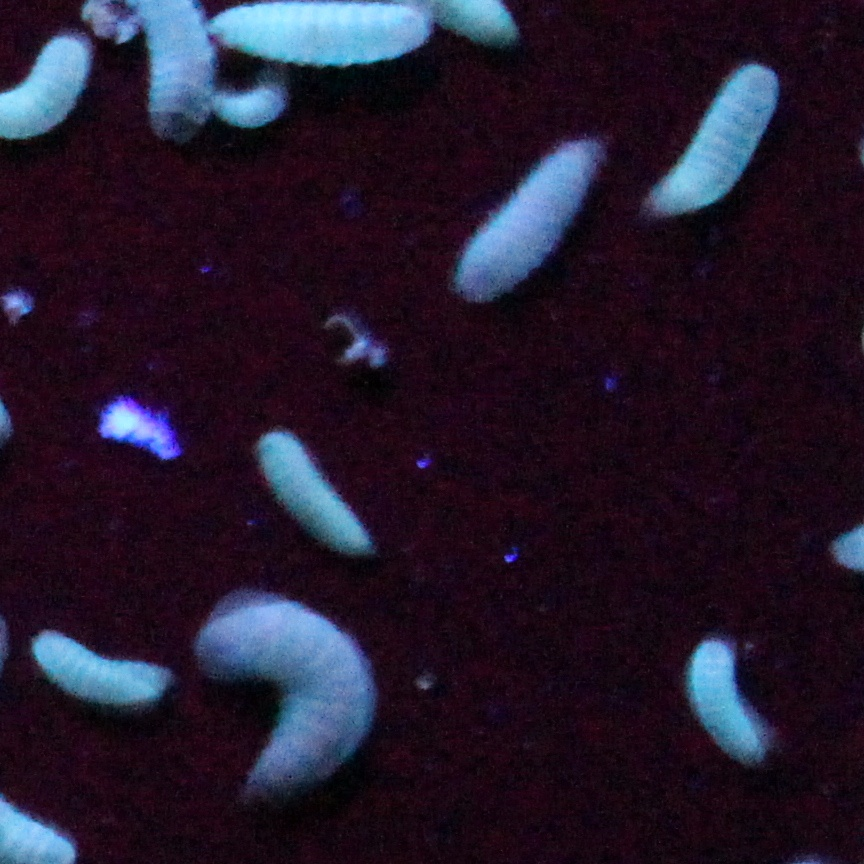larve: (202, 603, 366, 797), (452, 141, 602, 294), (649, 59, 774, 215), (249, 423, 372, 557), (210, 3, 426, 64), (690, 639, 771, 770), (36, 626, 168, 704)
